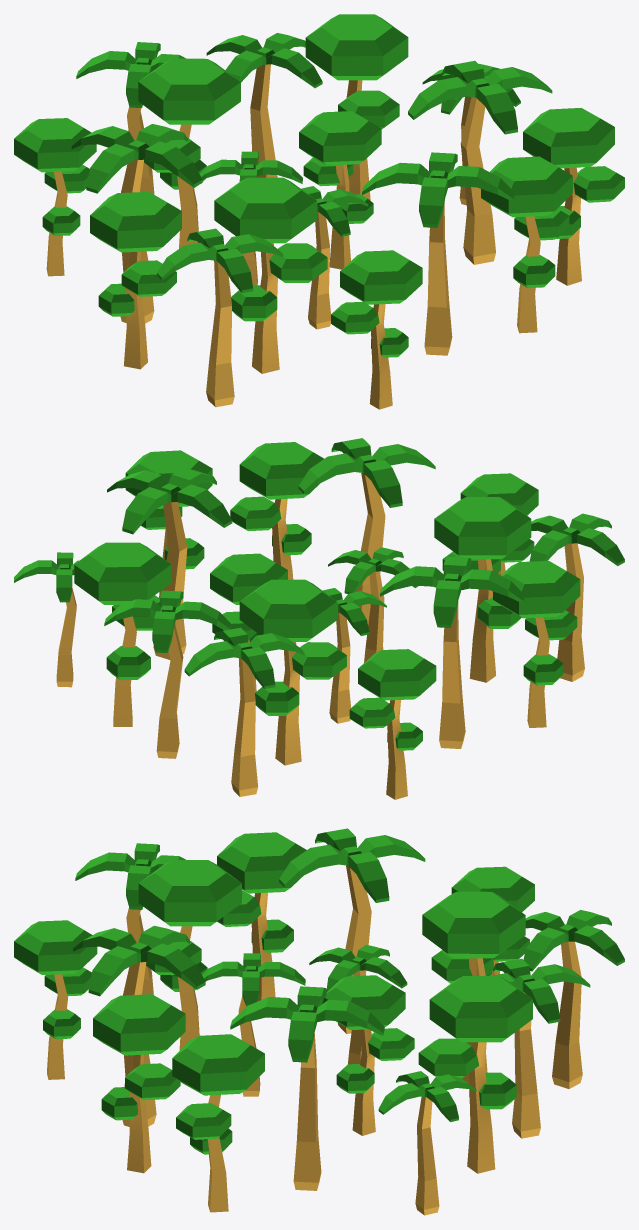
File: flatForestJungle.fbx
3 views of the same model, one above another, from view 1: azimuth 30°, elevation 25°; view 2: azimuth 150°, elevation 25°; view 3: azimuth 270°, elevation 25° (orthographic). The views are drawn at different scales.
Visible parts, largest first — view 1: JungleExport; view 2: JungleExport; view 3: JungleExport.
Part boxes in pixels (x1,y1,x2,y2): JungleExport: [14, 14, 624, 409]; JungleExport: [14, 438, 624, 799]; JungleExport: [14, 828, 624, 1215].
Size of the model in its own units: 177 by 61.67 by 187.
